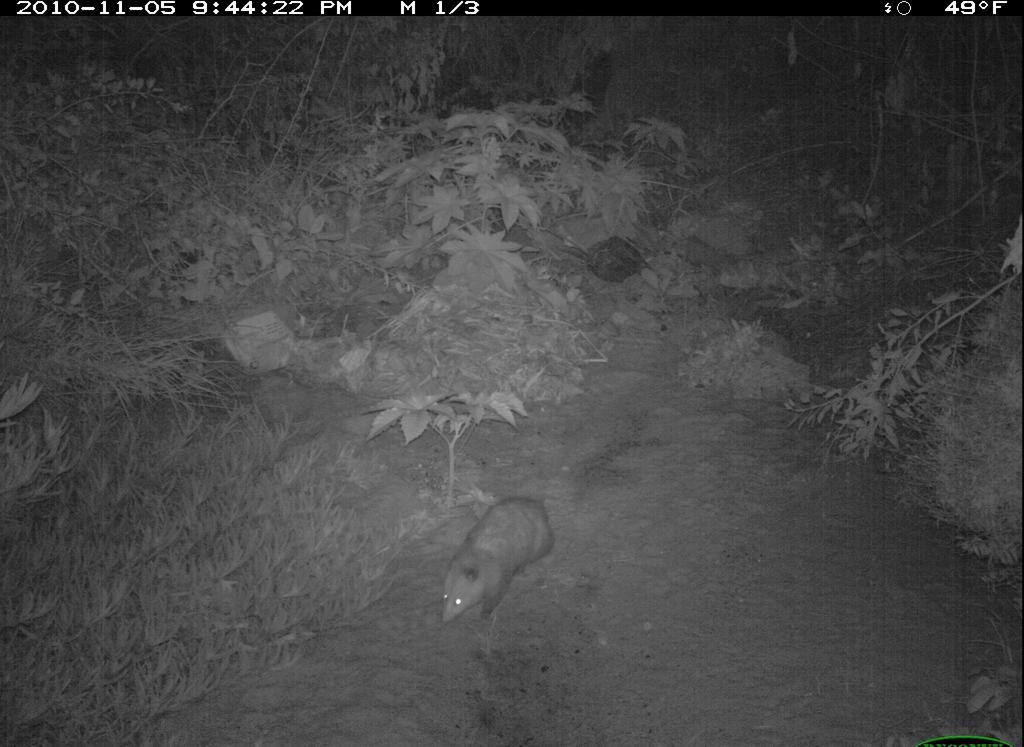opossum: (432, 488, 560, 626)
